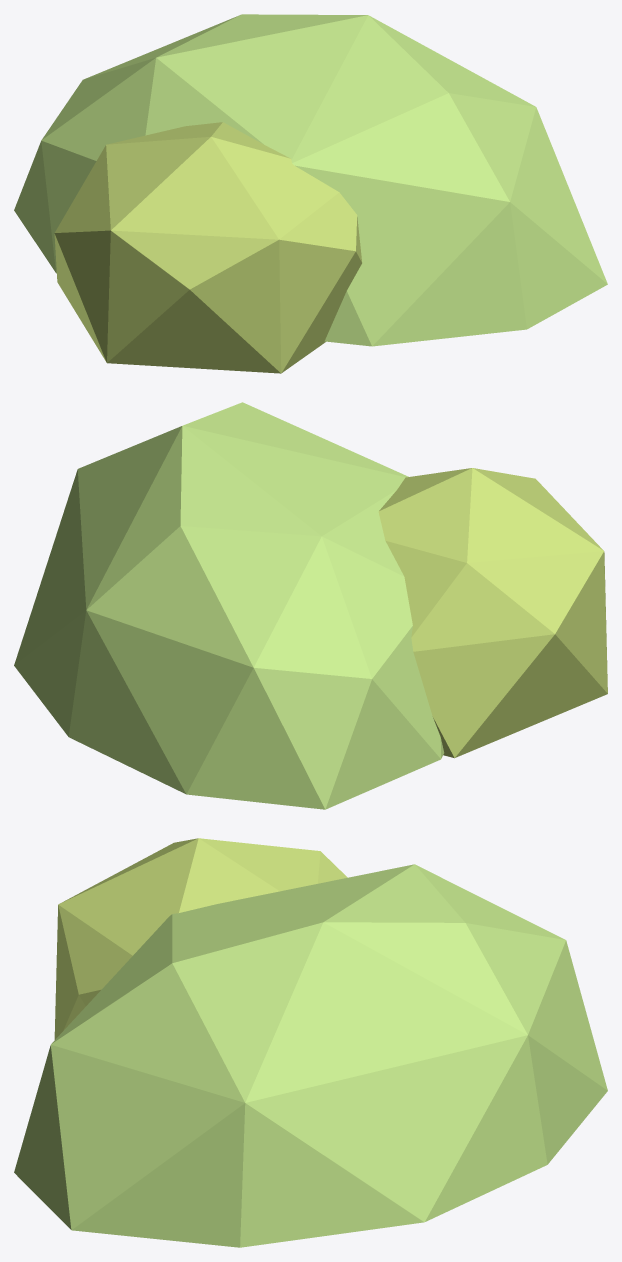
Rendered from Bush_e_m_02.fbx.
3 views of the same model, one above another, from view 1: azimuth 30°, elevation 25°; view 2: azimuth 150°, elevation 25°; view 3: azimuth 270°, elevation 25° (orthographic). The views are drawn at different scales.
Parts seen in each view (by area): view 1: Bush_d_m_06; view 2: Bush_d_m_06; view 3: Bush_d_m_06.
Part boxes in pixels (bbox=[...]): Bush_d_m_06: bbox=[14, 14, 607, 373]; Bush_d_m_06: bbox=[14, 402, 607, 809]; Bush_d_m_06: bbox=[14, 838, 607, 1247].
Size of the model in its own units: 168 by 72.1 by 160.
